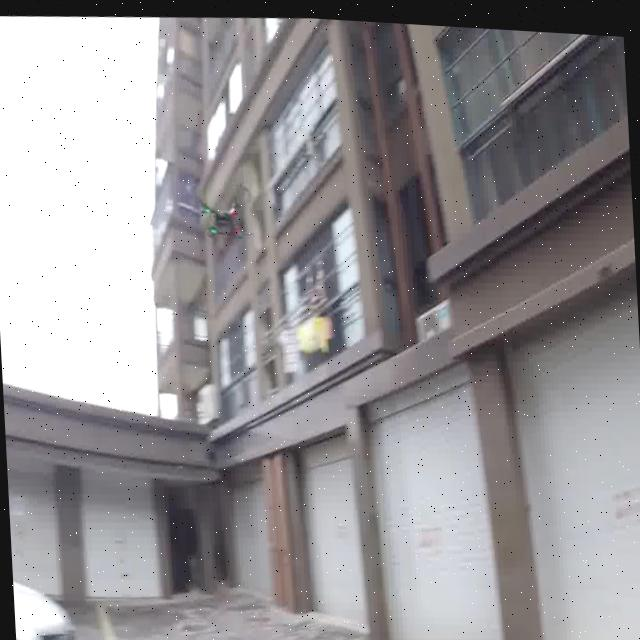drone: (190, 173, 254, 242)
